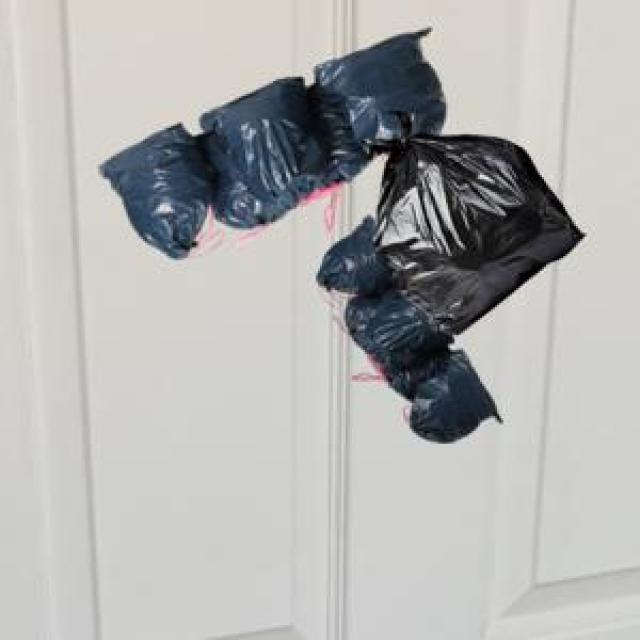Vinyl: (102, 30, 584, 442)
